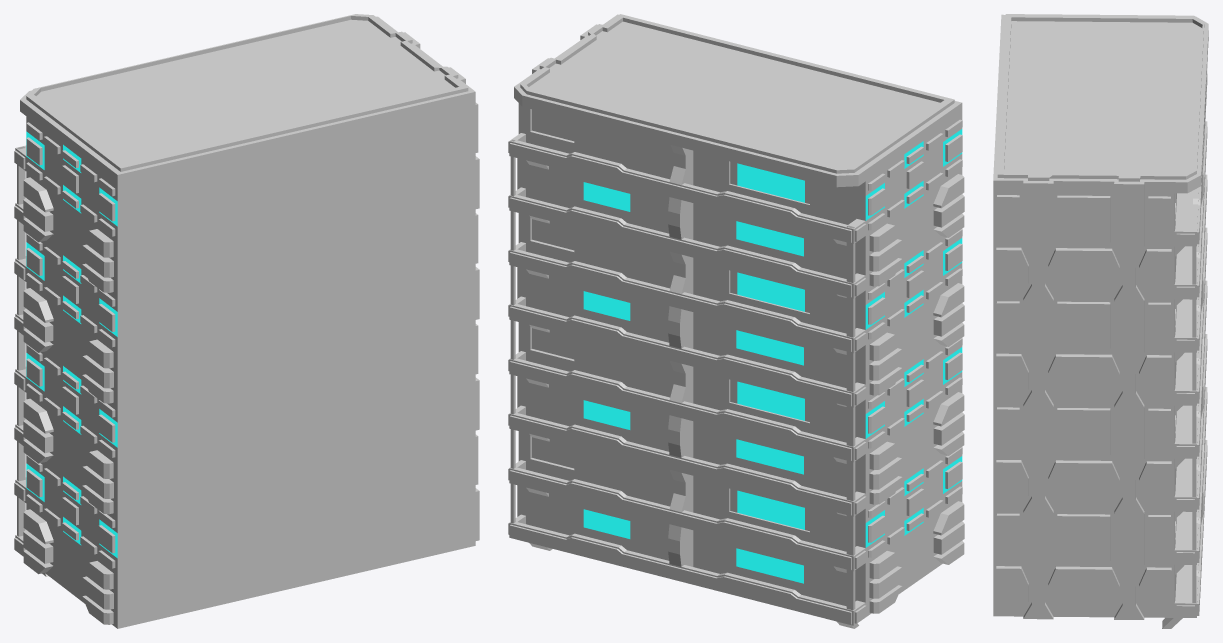
The model's file is building8.glb.
The picture shows the model from 3 angles, left to right: view 1: azimuth 30°, elevation 25°; view 2: azimuth 150°, elevation 25°; view 3: azimuth 270°, elevation 25°; orthographic projection. The views are drawn at different scales.
Parts seen in each view (by area): view 1: Cube.012; view 2: Cube.012; view 3: Cube.012.
Part boxes in pixels (left/top/right/bottom): Cube.012: left=14, top=14, right=479, bottom=628; Cube.012: left=508, top=14, right=964, bottom=628; Cube.012: left=993, top=14, right=1208, bottom=628.
Size of the model in its own units: 27.73 by 33.87 by 14.56.
